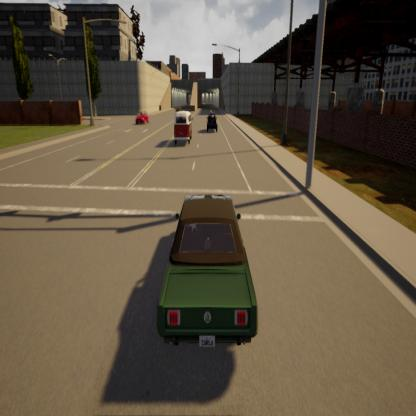Cars: (158, 192, 259, 354), (174, 110, 193, 146), (135, 108, 149, 126), (207, 110, 217, 133)
